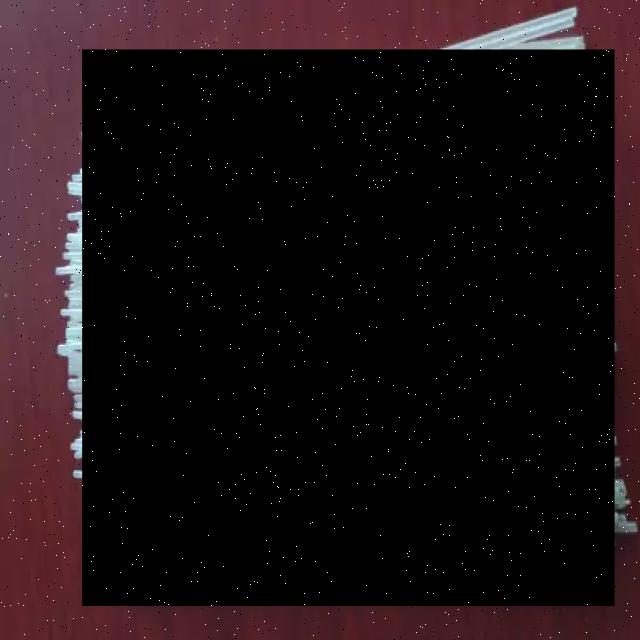Thukpa_Noodles: (83, 50, 615, 608)
